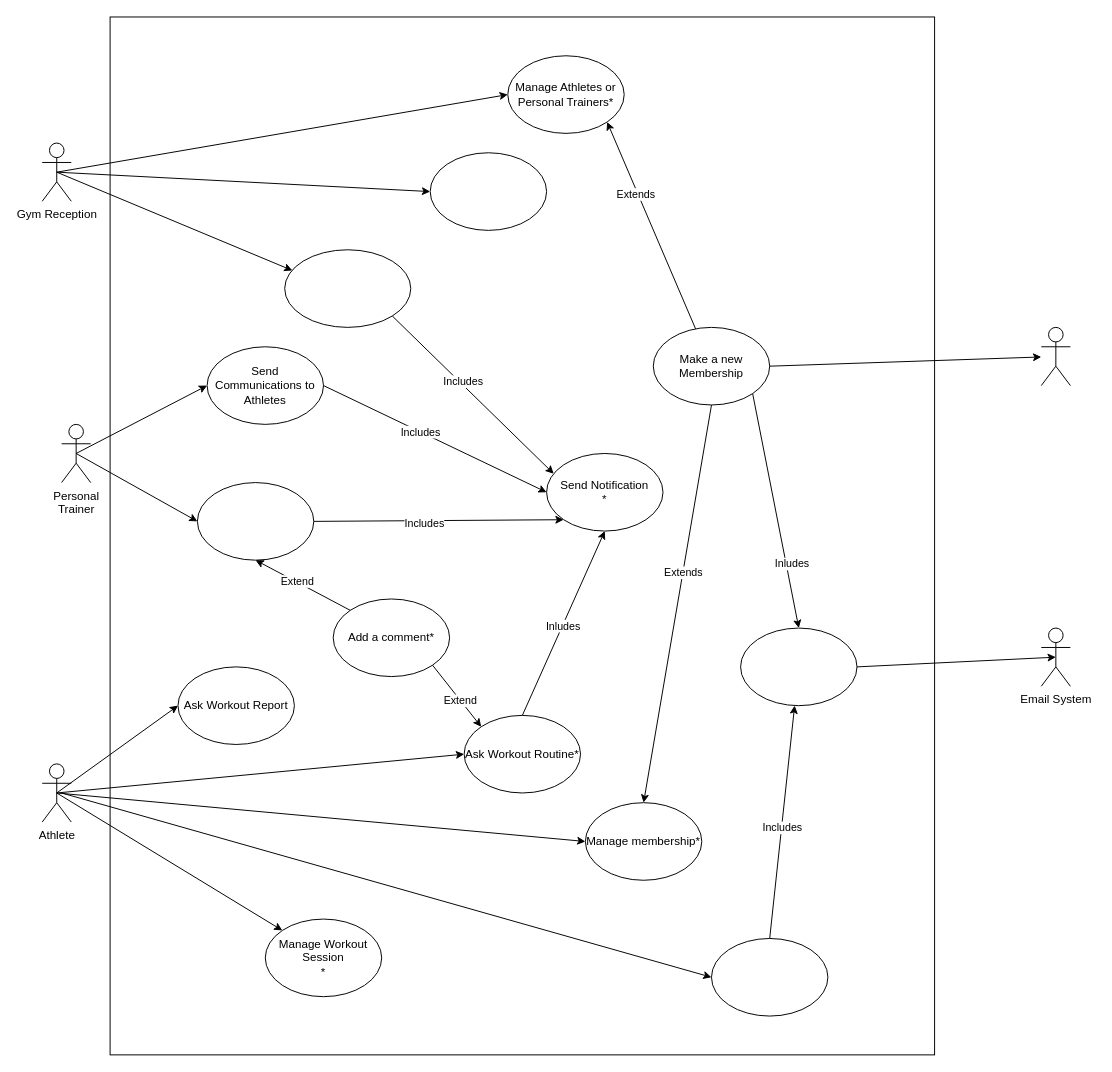
Image size: 1112x1072. Some labels were removed from this diagram. Here are the shapes that lost their labels. From the top down, the centre of each, then its label:
At pixel 488 191: "Manage Gym Equipment".
At pixel 347 288: "Send communications to users".
At pixel 1055 356: "Paypal System".
At pixel 255 521: "Satisfy workout routine*".
At pixel 798 666: "Send an email*".
At pixel 769 977: "Write a message for Gym Reception".
